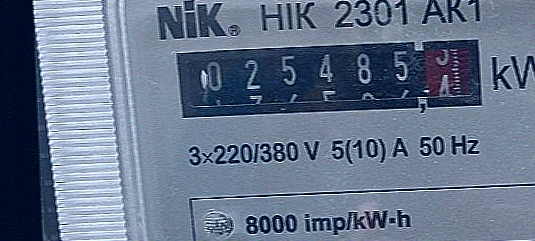0: (203, 55, 226, 91)
2: (242, 54, 264, 90)
4: (315, 48, 338, 83), (435, 69, 455, 98)
5: (390, 45, 413, 83), (278, 49, 300, 85)
8: (354, 46, 376, 85)
screen: (168, 29, 492, 128)
